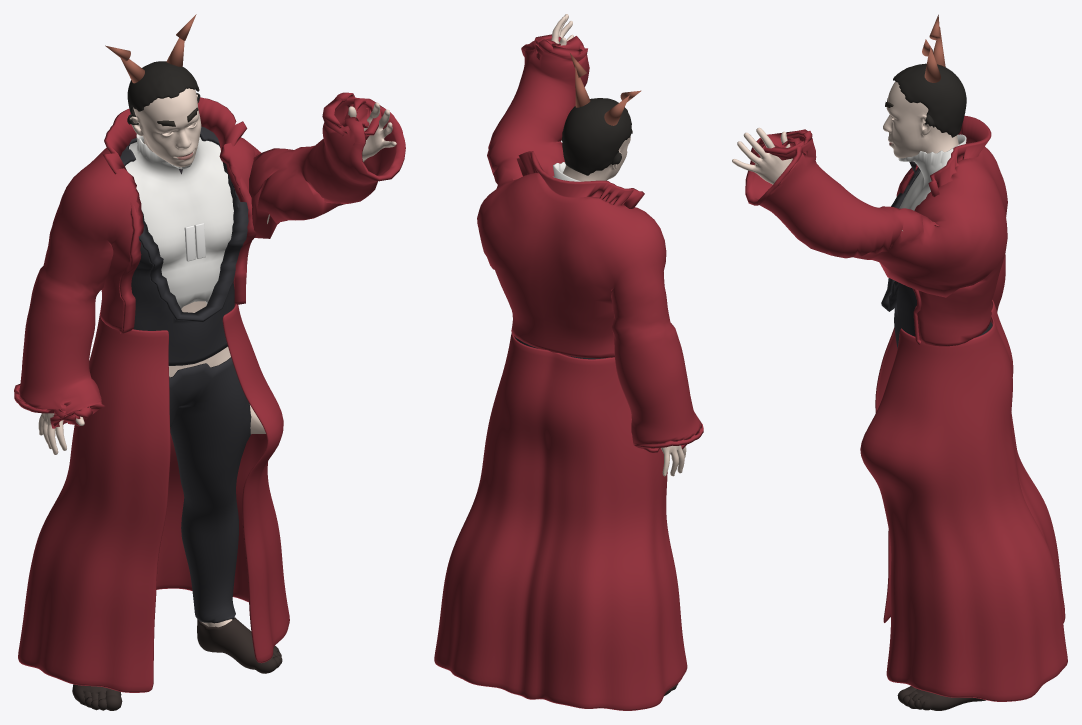
Rendered from juror_advocate.glb.
3 views of the same model, side by side, from view 1: azimuth 30°, elevation 25°; view 2: azimuth 150°, elevation 25°; view 3: azimuth 270°, elevation 25° (orthographic). The views are drawn at different scales.
Visible parts, largest first — view 1: GownLower, GownUpper, Trousers.001, Shirt.001, Jacket, Body.002, Shoes.002, Scalp.001; view 2: GownLower, GownUpper, Scalp.001, Body.002; view 3: GownLower, GownUpper, Body.002, Scalp.001, Jacket, Shirt.001, Shoes.002.
Part boxes in pixels (left/top/right/bottom): GownLower: left=18, top=304, right=289, bottom=692; GownUpper: left=14, top=92, right=405, bottom=428; Trousers.001: left=169, top=357, right=251, bottom=623; Shirt.001: left=125, top=134, right=233, bottom=308; Jacket: left=120, top=126, right=248, bottom=365; Body.002: left=38, top=88, right=396, bottom=627; Shoes.002: left=72, top=617, right=282, bottom=710; Scalp.001: left=127, top=61, right=200, bottom=124; GownLower: left=434, top=332, right=687, bottom=710; GownUpper: left=477, top=34, right=703, bottom=452; Scalp.001: left=562, top=98, right=631, bottom=175; Body.002: left=551, top=14, right=686, bottom=476; GownLower: left=860, top=300, right=1067, bottom=701; GownUpper: left=745, top=115, right=1007, bottom=346; Body.002: left=732, top=81, right=958, bottom=230; Scalp.001: left=893, top=63, right=966, bottom=137; Jacket: left=881, top=167, right=992, bottom=348; Shirt.001: left=898, top=134, right=966, bottom=210; Shoes.002: left=897, top=686, right=985, bottom=710.
Bounding box in the file's own units: 0.9121 × 2.04 × 0.9716.
